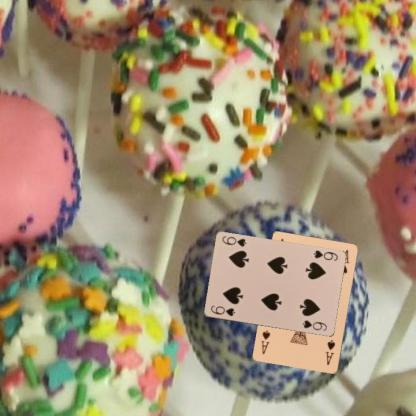6s: (208, 303, 236, 317), (311, 248, 338, 262)
As: (324, 338, 336, 366)
